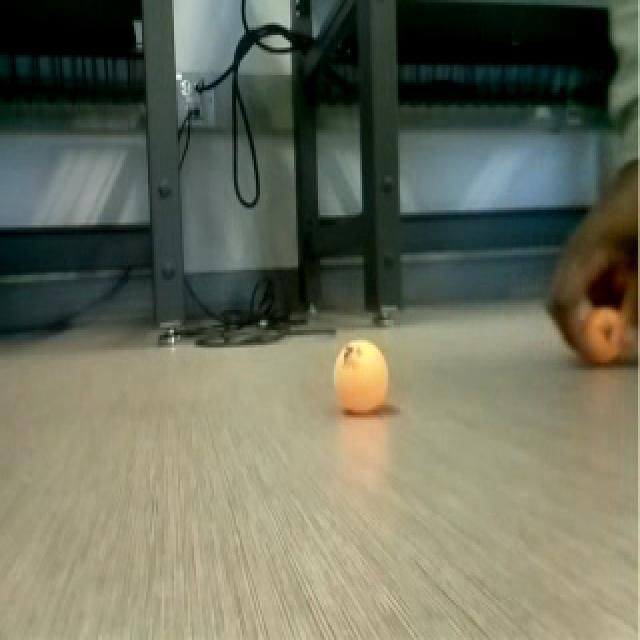ping-pong-ball: (332, 336, 390, 420), (581, 298, 627, 372)
